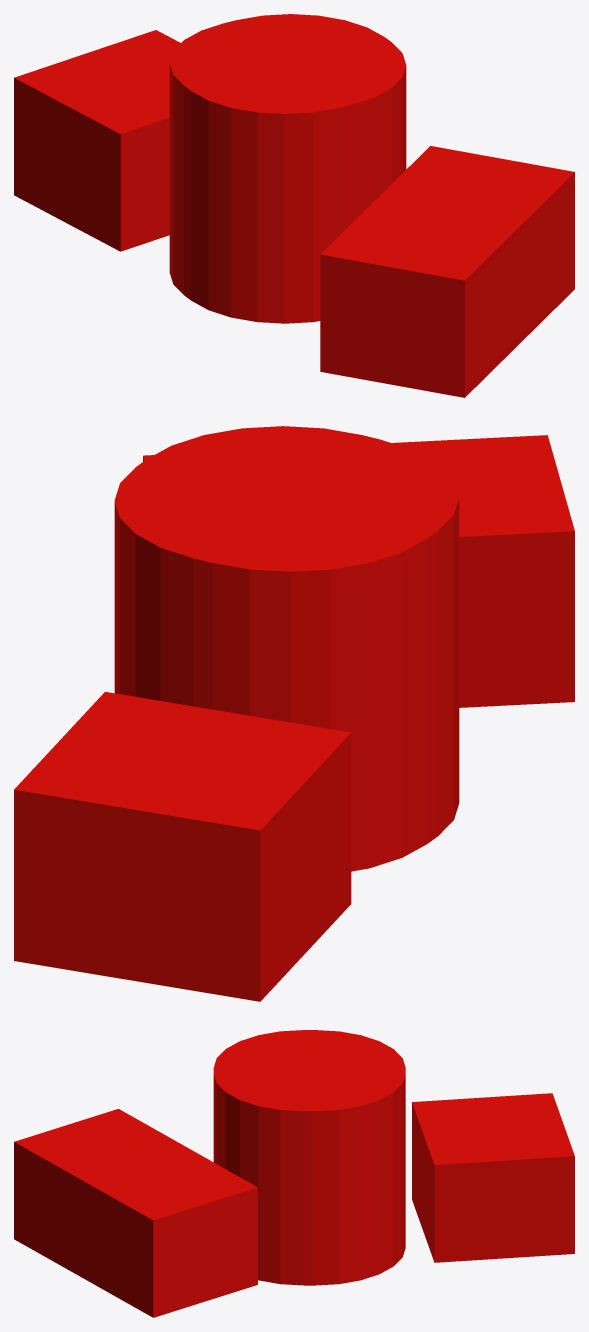
The model's file is presentsInteractable.fbx.
3 renders of one model, top to bottom at view 1: azimuth 30°, elevation 25°; view 2: azimuth 150°, elevation 25°; view 3: azimuth 270°, elevation 25°, orthographic. The views are drawn at different scales.
Visible parts, largest first — view 1: Cube; view 2: Cube; view 3: Cube.
Part boxes in pixels (x1,y1,x2,y2): Cube: [14, 14, 574, 397]; Cube: [14, 426, 574, 1001]; Cube: [14, 1030, 574, 1317].
Size of the model in its own units: 575 by 359 by 1048.
